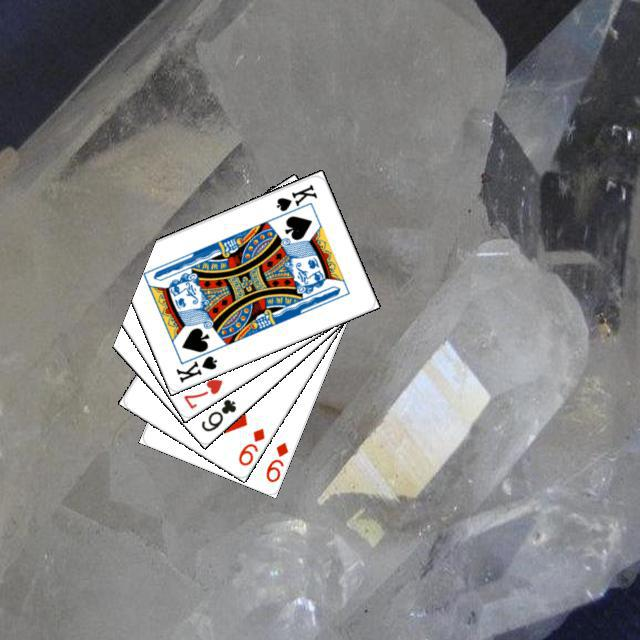6c: (196, 394, 238, 434)
7h: (178, 374, 224, 411)
9d: (233, 423, 267, 468), (261, 437, 290, 484)
Ks: (271, 180, 319, 220), (171, 350, 219, 384)
